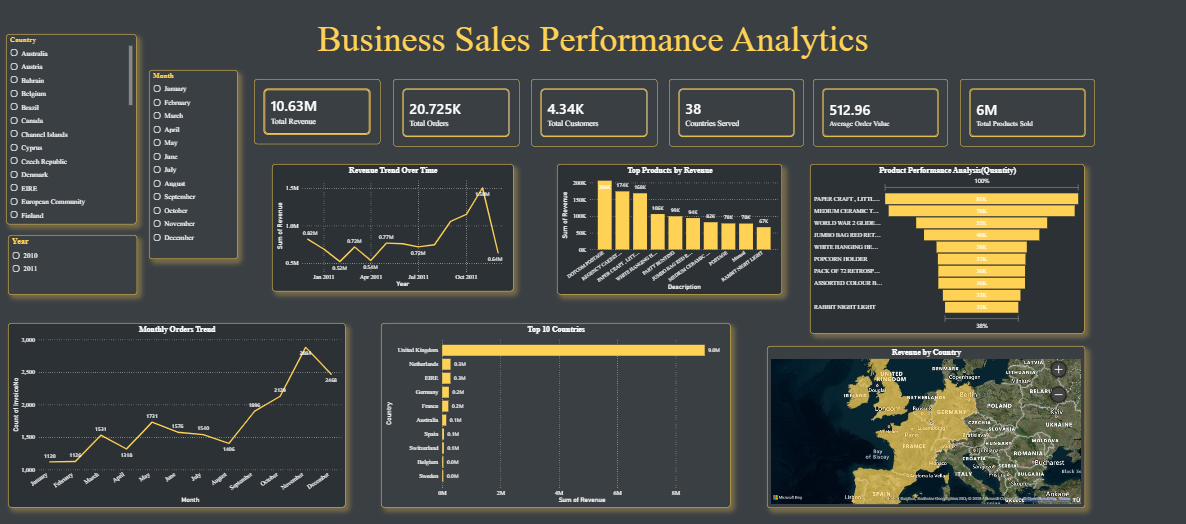

The dashboard page shown, as its layout file describes it:
{"tool":"powerbi","page":{"name":"Page 1","canvas":[3000,3000],"ordinal":0},"visuals":[{"type":"cardVisual","fields":{"Data":["Sum(online_retail.Revenue)"]},"box":[578.6,178.6,281,145.2],"z":0},{"type":"cardVisual","fields":{"Data":["Count(online_retail.InvoiceNo)"]},"box":[885.7,178.6,281,150],"z":1000},{"type":"cardVisual","fields":{"Data":["Count(online_retail.CustomerID)"]},"box":[1192.9,178.6,281,150],"z":2000},{"type":"cardVisual","fields":{"Data":["Count(online_retail.Country)"]},"box":[1500,178.6,300,150],"z":3000},{"type":"columnChart","title":"Top Products by Revenue","fields":{"Category":["online_retail.Description"],"Y":["Sum(online_retail.Revenue)"]},"box":[1250,366.7,500,290],"z":4000},{"type":"lineChart","title":"Revenue Trend Over Time","fields":{"Y":["Sum(online_retail.Revenue)"],"Category":["online_retail.InvoiceDate.Variation.Date Hierarchy.Year","online_retail.InvoiceDate.Variation.Date Hierarchy.Month"]},"box":[616.7,366.7,536.7,283.3],"z":5000},{"type":"lineChart","title":"Monthly Orders Trend","fields":{"Y":["Count(online_retail.InvoiceNo)"],"Category":["online_retail.InvoiceDate.Variation.Date Hierarchy.Month"]},"box":[30,720,750,410],"z":6000},{"type":"funnel","title":"Product Performance Analysis(Quantity)","fields":{"Category":["online_retail.Description"],"Y":["Sum(online_retail.Quantity)"]},"box":[1813.3,366.7,610,376.7],"z":7000},{"type":"filledMap","title":"Revenue by Country","fields":{"Category":["online_retail.Country"]},"box":[1716.7,770,706.7,360],"z":8000},{"type":"barChart","title":"Top 10 Countries","fields":{"Category":["online_retail.Country"],"Y":["Sum(online_retail.Revenue)"]},"box":[860,720,776.7,410],"z":9000},{"type":"listSlicer","fields":{"Values":["online_retail.Country"]},"box":[26.7,76.7,290,423.3],"z":10000},{"type":"listSlicer","fields":{"Values":["online_retail.InvoiceDate.Variation.Date Hierarchy.Year"]},"box":[30,523.3,286.7,133.3],"z":11000},{"type":"listSlicer","fields":{"Values":["online_retail.Date.Variation.Date Hierarchy.Month"]},"box":[343.3,156.7,196.7,420],"z":12000},{"type":"textbox","box":[681,38.1,1302.4,119],"z":13000},{"type":"cardVisual","fields":{"Data":["online_retail.Avg order value"]},"box":[1819,178.6,300,150],"z":14000},{"type":"cardVisual","fields":{"Data":["online_retail.Total Products Sold"]},"box":[2147.6,178.6,300,150],"z":15000}]}

Visuals, with their boxes on the page's 3000x3000 design canvas (x1, y1, x2, y2). These are canvas units, not pixel positions in the 1186x524 screenshot, which may show the page scaled, cropped or inside an application window:
cardVisual - Sum(online_retail.Revenue): [left=579, top=179, right=860, bottom=324]
cardVisual - Count(online_retail.InvoiceNo): [left=886, top=179, right=1167, bottom=329]
cardVisual - Count(online_retail.CustomerID): [left=1193, top=179, right=1474, bottom=329]
cardVisual - Count(online_retail.Country): [left=1500, top=179, right=1800, bottom=329]
"Top Products by Revenue" columnChart: [left=1250, top=367, right=1750, bottom=657]
"Revenue Trend Over Time" lineChart: [left=617, top=367, right=1153, bottom=650]
"Monthly Orders Trend" lineChart: [left=30, top=720, right=780, bottom=1130]
"Product Performance Analysis(Quantity)" funnel: [left=1813, top=367, right=2423, bottom=743]
"Revenue by Country" filledMap: [left=1717, top=770, right=2423, bottom=1130]
"Top 10 Countries" barChart: [left=860, top=720, right=1637, bottom=1130]
listSlicer - online_retail.Country: [left=27, top=77, right=317, bottom=500]
listSlicer - online_retail.InvoiceDate.Variation.Date Hierarchy.Year: [left=30, top=523, right=317, bottom=657]
listSlicer - online_retail.Date.Variation.Date Hierarchy.Month: [left=343, top=157, right=540, bottom=577]
textbox: [left=681, top=38, right=1983, bottom=157]
cardVisual - online_retail.Avg order value: [left=1819, top=179, right=2119, bottom=329]
cardVisual - online_retail.Total Products Sold: [left=2148, top=179, right=2448, bottom=329]
